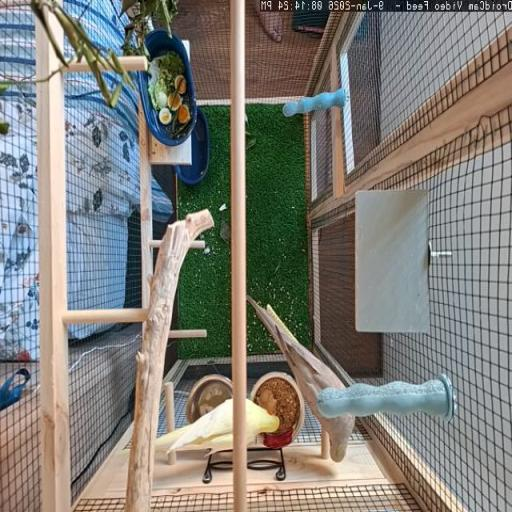comedero: (250, 372, 305, 448), (187, 374, 232, 422)
ninfa: (248, 298, 355, 461), (156, 399, 234, 453), (242, 399, 279, 445)
